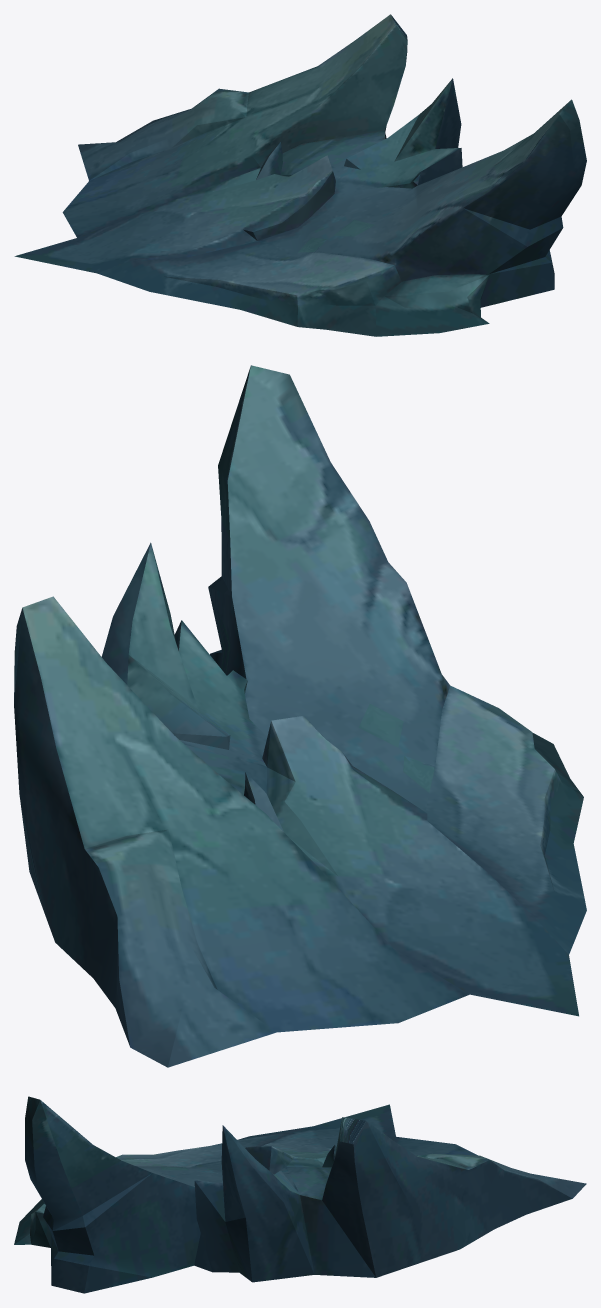
File: map_111_shitou_4.fbx
The picture shows the model from 3 angles, top to bottom: view 1: azimuth 30°, elevation 25°; view 2: azimuth 150°, elevation 25°; view 3: azimuth 270°, elevation 25°; orthographic projection. The views are drawn at different scales.
Visible parts, largest first — view 1: map_111_shitou_4; view 2: map_111_shitou_4; view 3: map_111_shitou_4.
Part boxes in pixels (left/top/right/bottom): map_111_shitou_4: left=14, top=14, right=586, bottom=336; map_111_shitou_4: left=14, top=365, right=586, bottom=1067; map_111_shitou_4: left=14, top=1096, right=586, bottom=1293.
Bounding box in the file's own units: 5.14 × 2.38 × 6.45.
